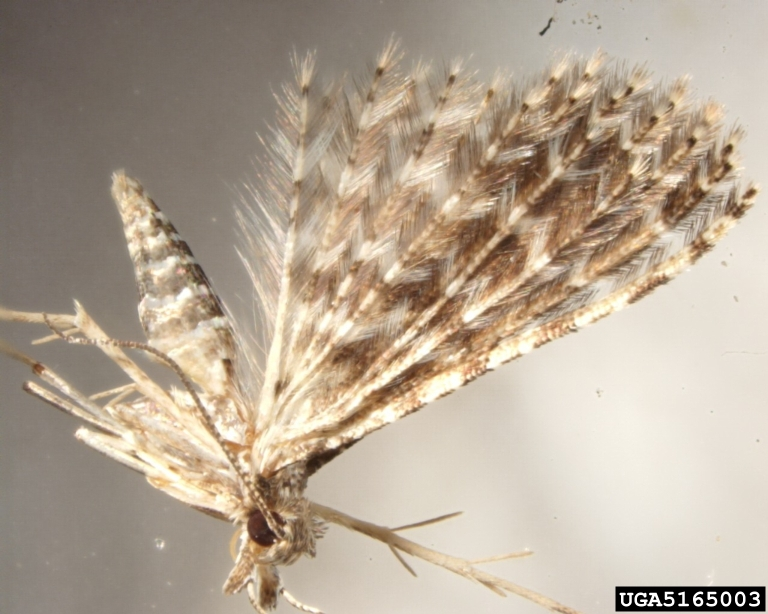Alucitidae: (1, 36, 762, 614)
moth: (2, 36, 764, 614)
